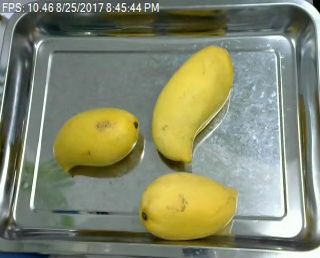Mango: (150, 43, 232, 163), (135, 171, 241, 240), (52, 105, 140, 172)
